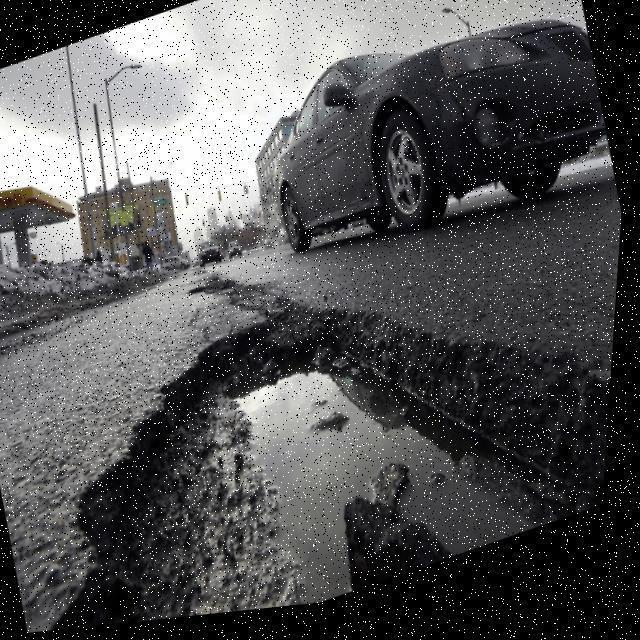Pothole: (34, 284, 616, 634)
